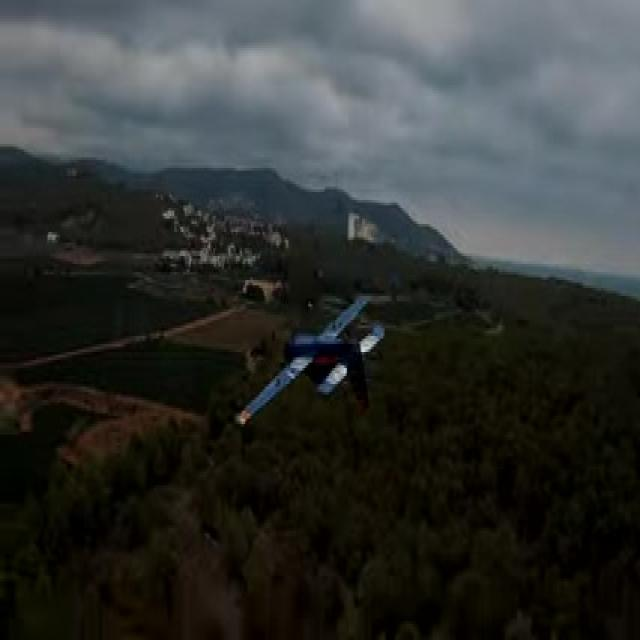iha: (233, 290, 386, 437)
